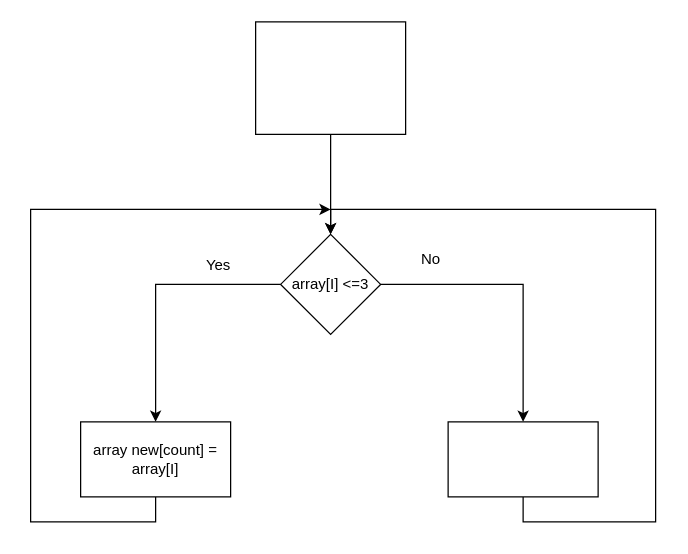
This 688x554 diagram has some shape labels left out. The shapes that lost their labels are listed below. From the top down, each one's centre as x and y in pixels, then its label:
At point 330,77: "string [] array I=0 string [] arraynew count = 0".
At point 522,459: "I = I + 1".
